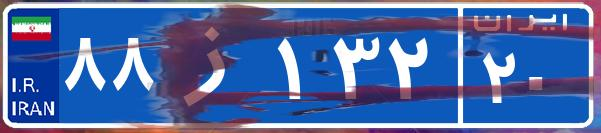0: (525, 38, 570, 115)
1: (273, 28, 330, 110)
2: (385, 28, 445, 110), (475, 38, 525, 113)
3: (330, 28, 385, 110)
8: (57, 26, 110, 107), (110, 28, 158, 105)
ز: (158, 15, 273, 115)
